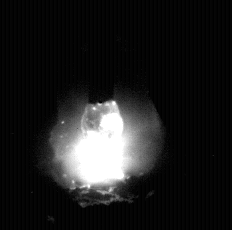arame: (88, 0, 115, 104)
poca: (50, 0, 166, 230)
